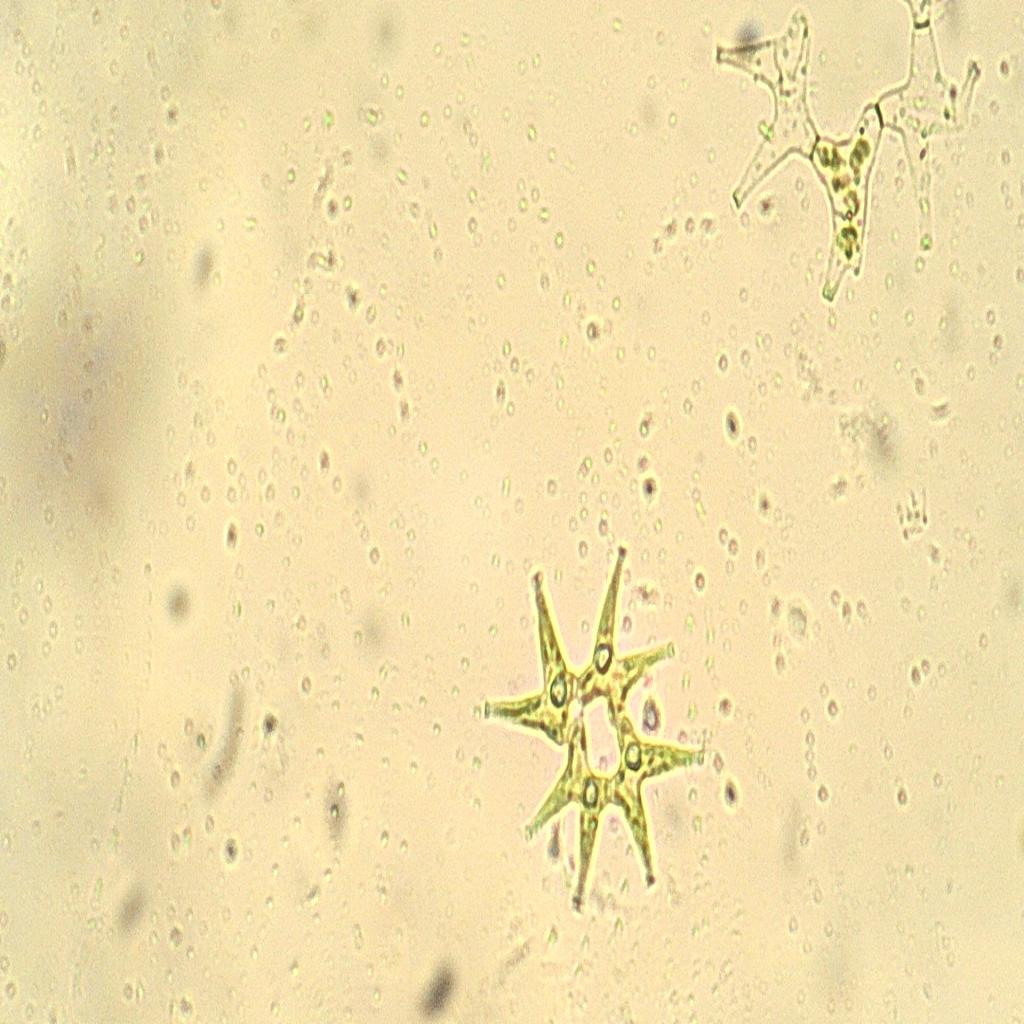Pediastrum_75FO: (478, 520, 720, 922)
